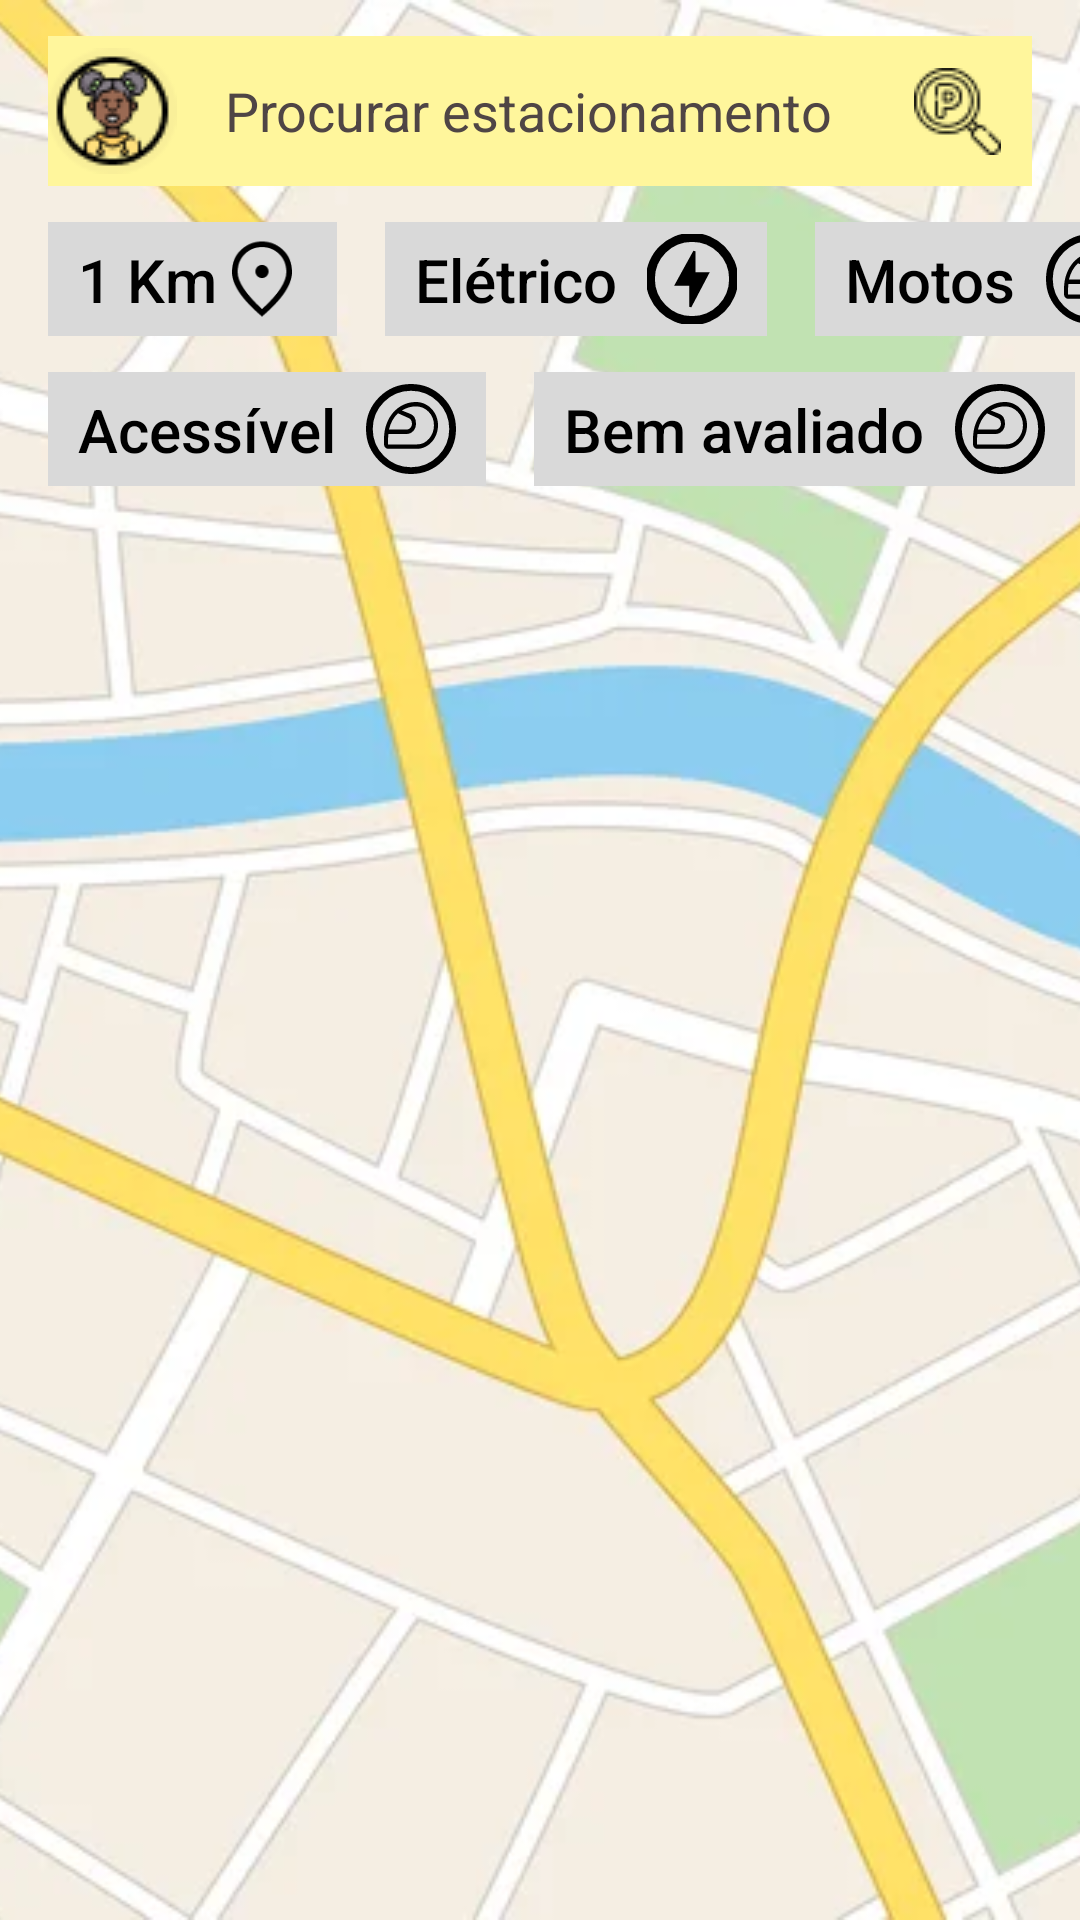

Named icons in this screenshot (1080 × 1920) and their centers, [x,y]:
cliente: [112,111]
eletrico: [692,279]
Pesquisar: [957,111]
pin: [262,279]
